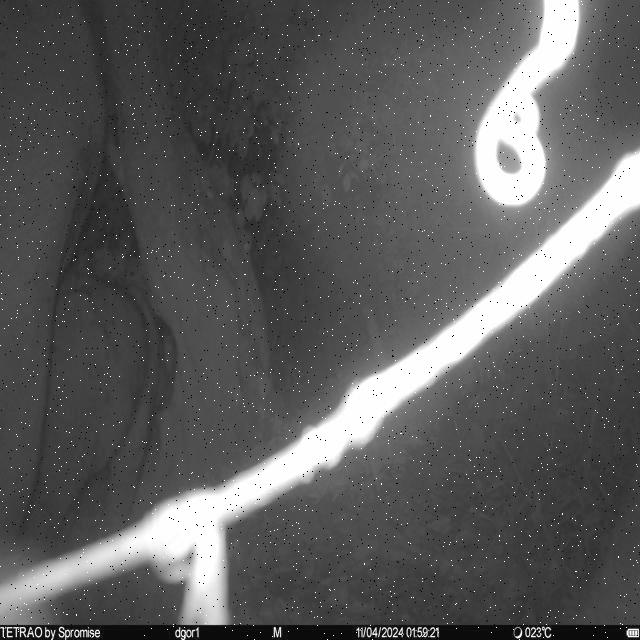calf: (25, 271, 178, 545)
elephant: (0, 1, 110, 576)
